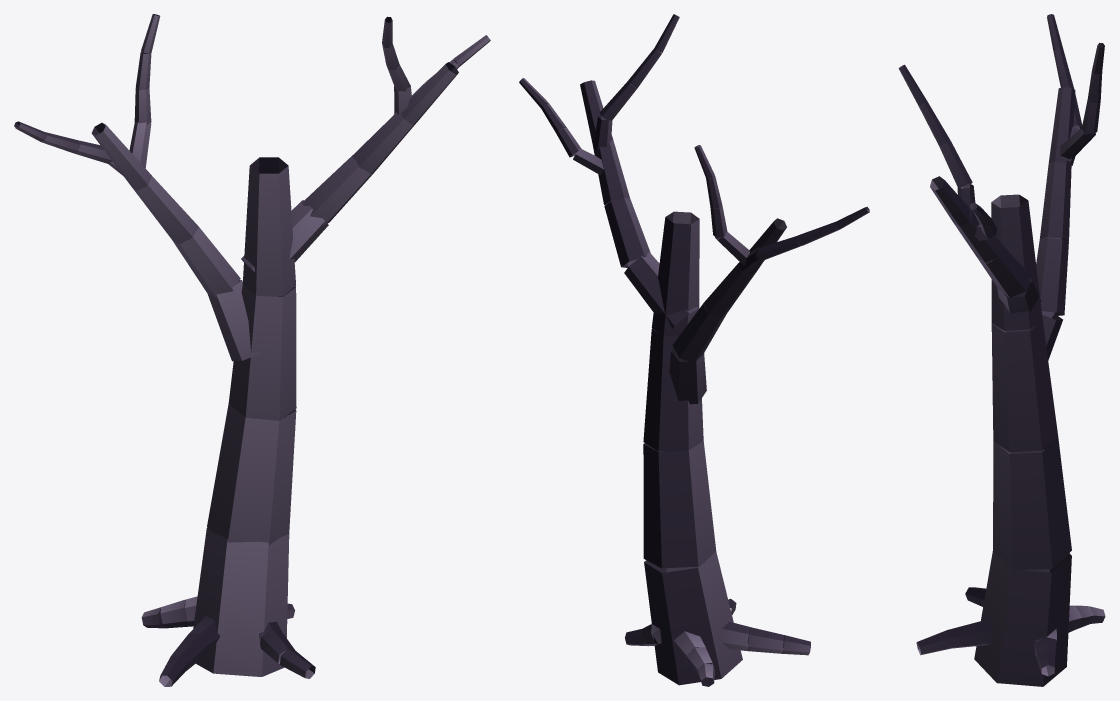
Rendered from cel_deadtree.glb.
3 views of the same model, side by side, from view 1: azimuth 30°, elevation 25°; view 2: azimuth 150°, elevation 25°; view 3: azimuth 270°, elevation 25° (orthographic). The views are drawn at different scales.
Visible parts, largest first — view 1: deadtree; view 2: deadtree; view 3: deadtree.
Boxes of the visible parts, x1,y1,x2,y2 form: deadtree: [14, 14, 490, 686]; deadtree: [519, 14, 869, 686]; deadtree: [898, 14, 1105, 686].
Size of the model in its own units: 3.3 by 4.91 by 1.42.
